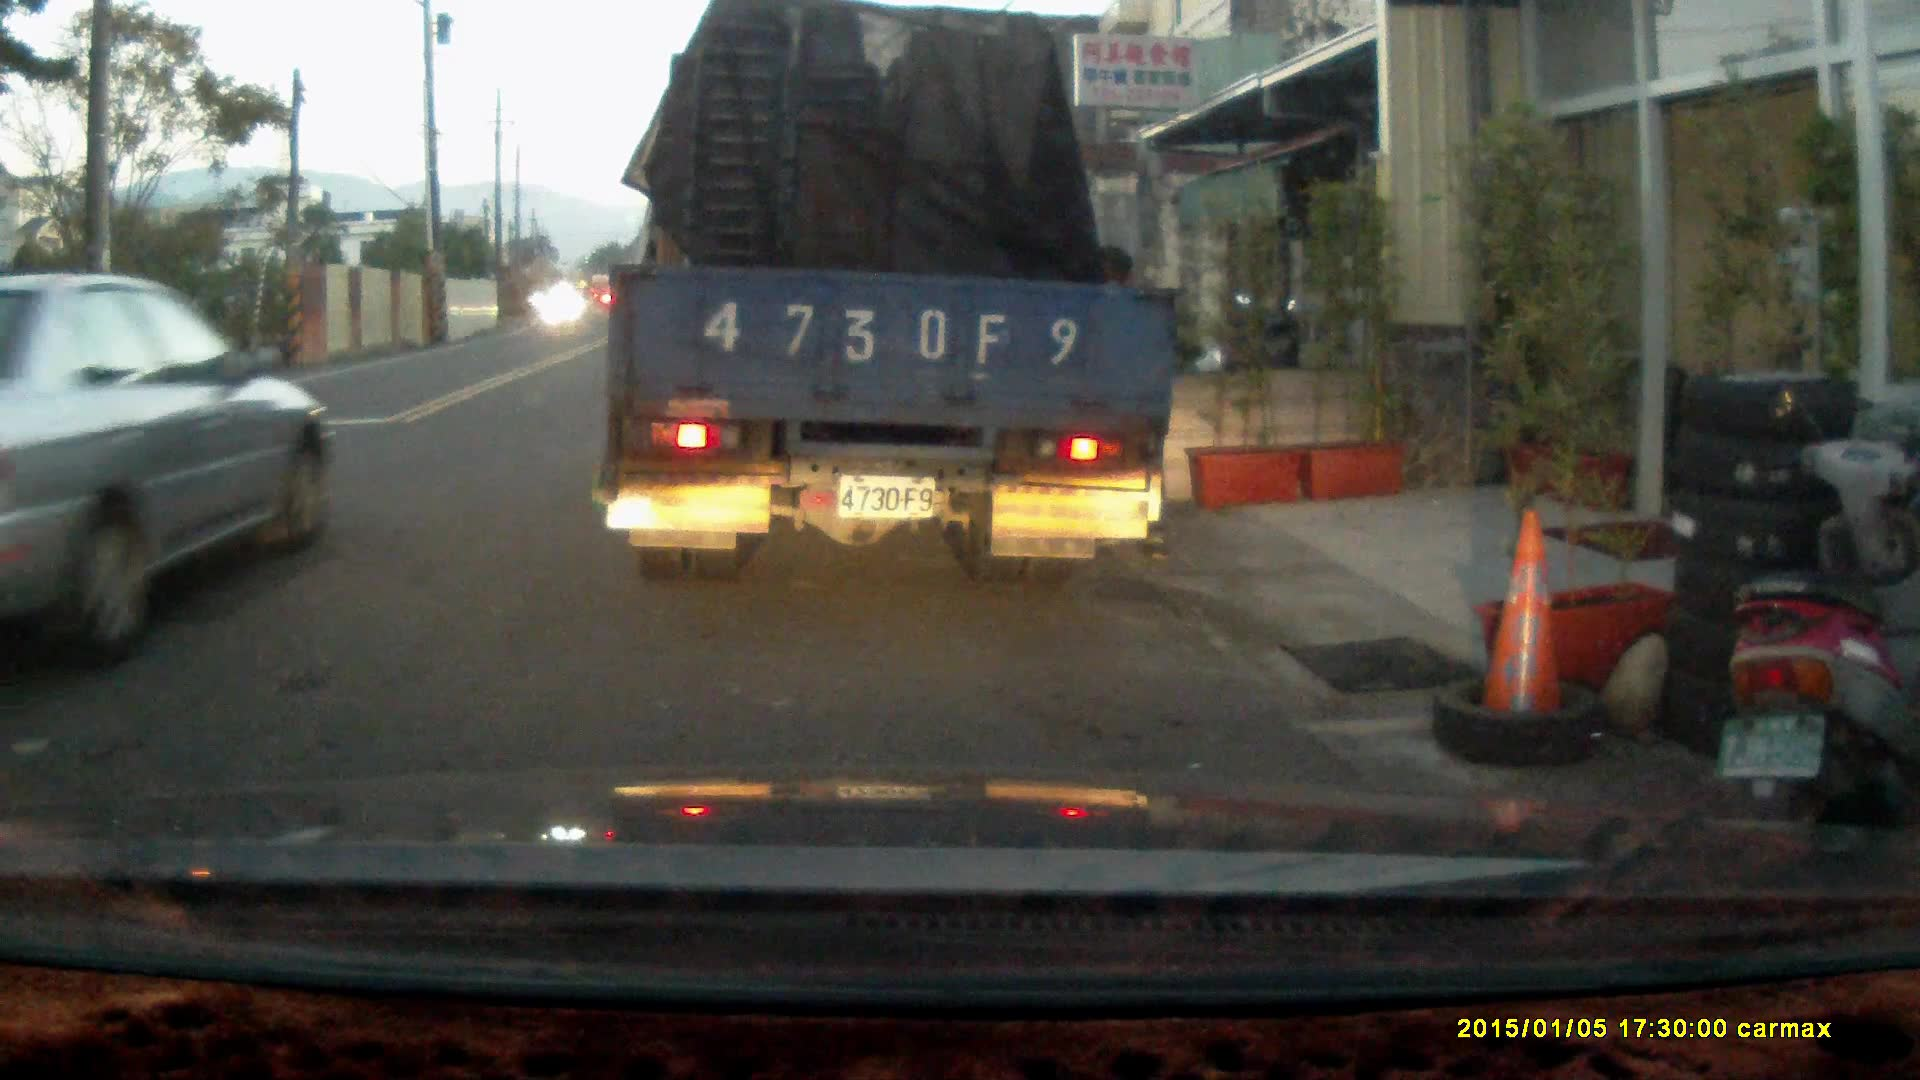vehicle: (605, 22, 1188, 572), (1, 268, 340, 688)
